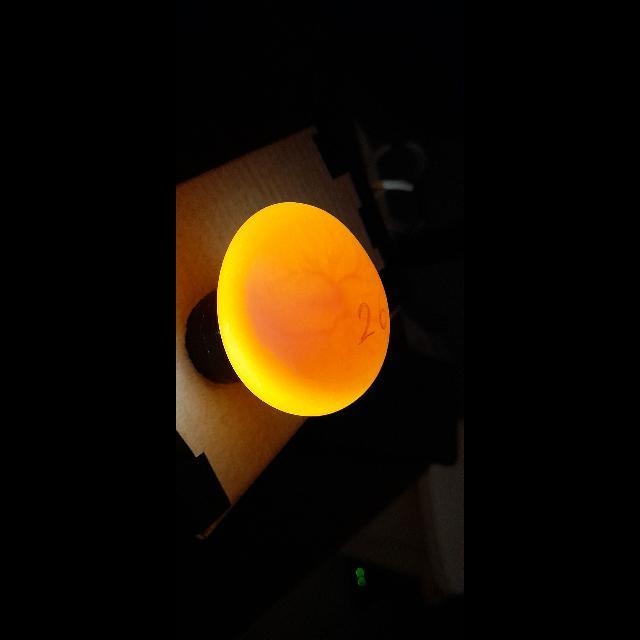Fertile: (211, 202, 397, 418)
